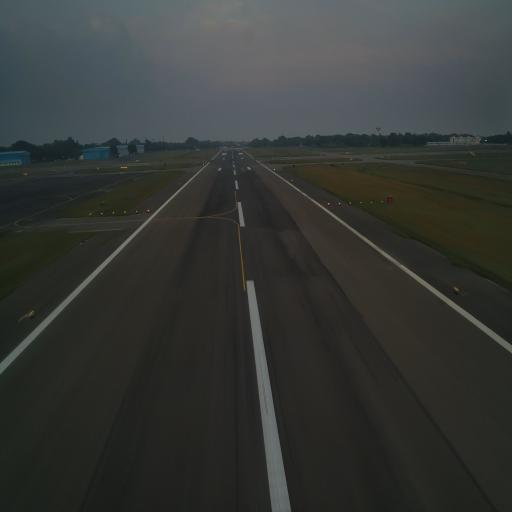on: (28, 308, 35, 318), (453, 286, 461, 294), (100, 212, 104, 217), (338, 201, 341, 207), (349, 200, 352, 206), (380, 200, 384, 204), (135, 209, 138, 214), (327, 202, 330, 207), (359, 200, 362, 205), (89, 212, 92, 216), (124, 210, 127, 214), (370, 200, 373, 204), (112, 211, 114, 216), (147, 208, 149, 213)
